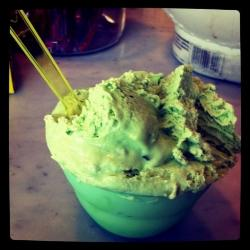icecream: (36, 62, 247, 195)
